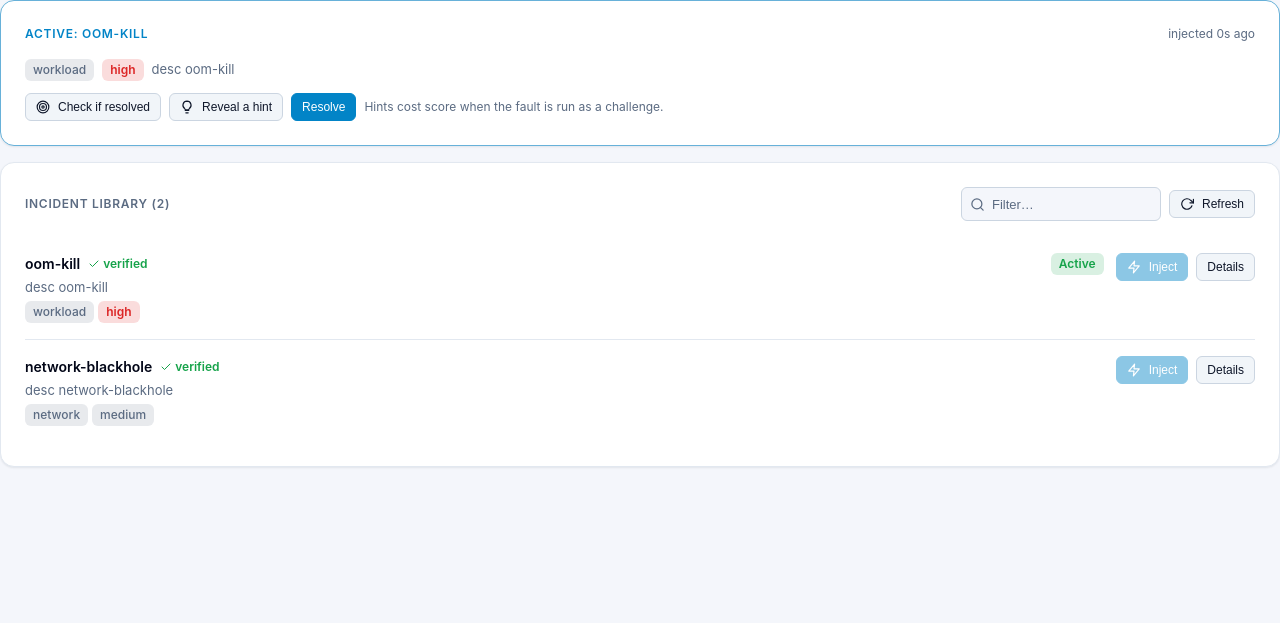
Incidents view › shows the active console, reveals hints progressively, and disables further injects
expect the text "Active: oom-kill" is shown: met, box top-left (25, 25), bottom-right (148, 43)
expect the 2nd button "Inject" is disabled: met, box top-left (1116, 356), bottom-right (1188, 384)
Step 1. Click the button "Reveal a hint" → (226, 107), box top-left (169, 93), bottom-right (283, 121)
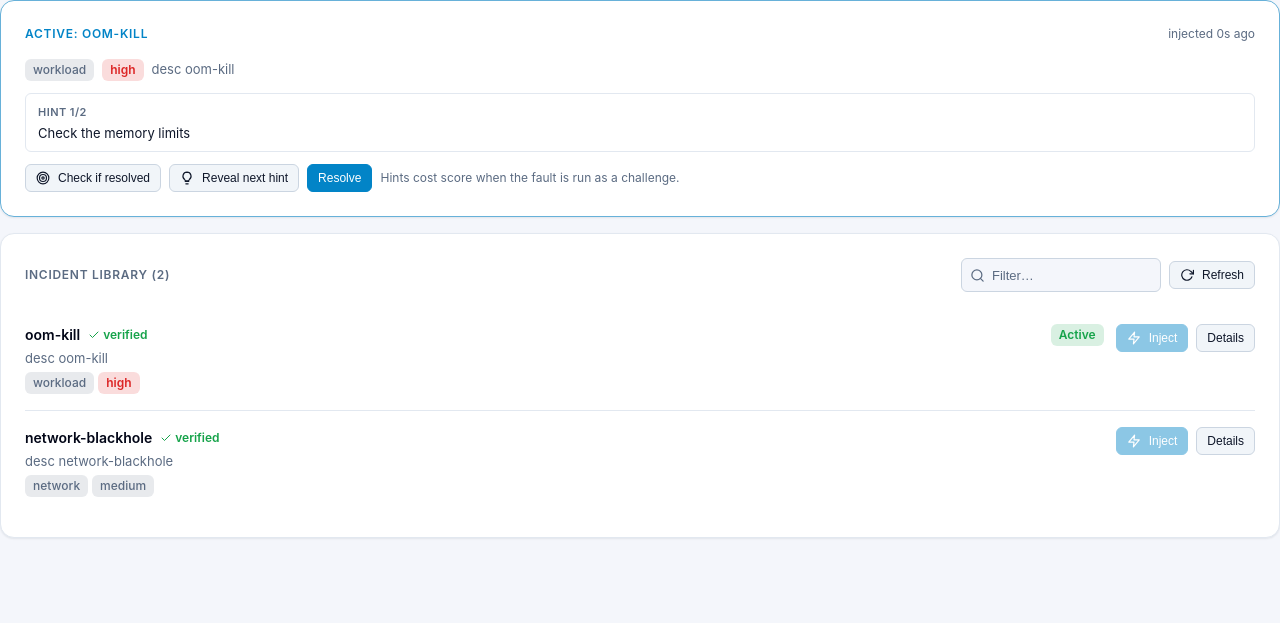
expect the text "Check the memory limits" is shown: met, box top-left (38, 124), bottom-right (190, 140)
Step 2. Click the button "Reveal next hint" → (234, 178), box top-left (169, 164), bottom-right (299, 192)
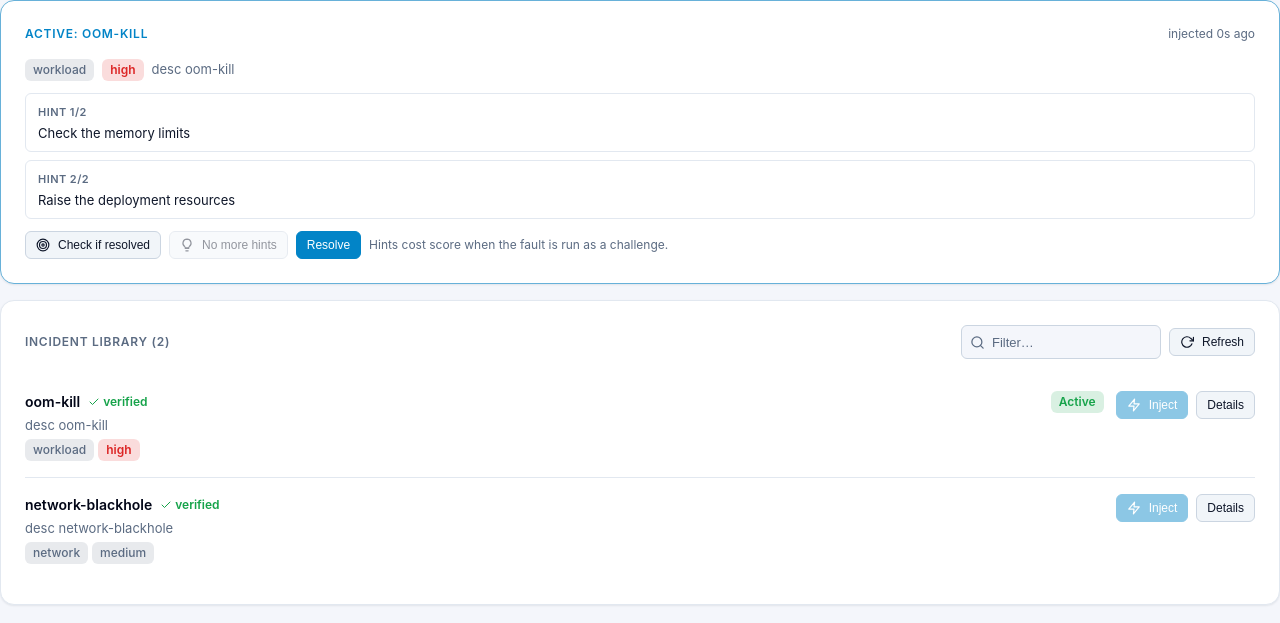
expect the text "Raise the deployment resources" is shown: met, box top-left (38, 192), bottom-right (235, 208)
expect the button "No more hints" is disabled: met, box top-left (169, 231), bottom-right (288, 259)
